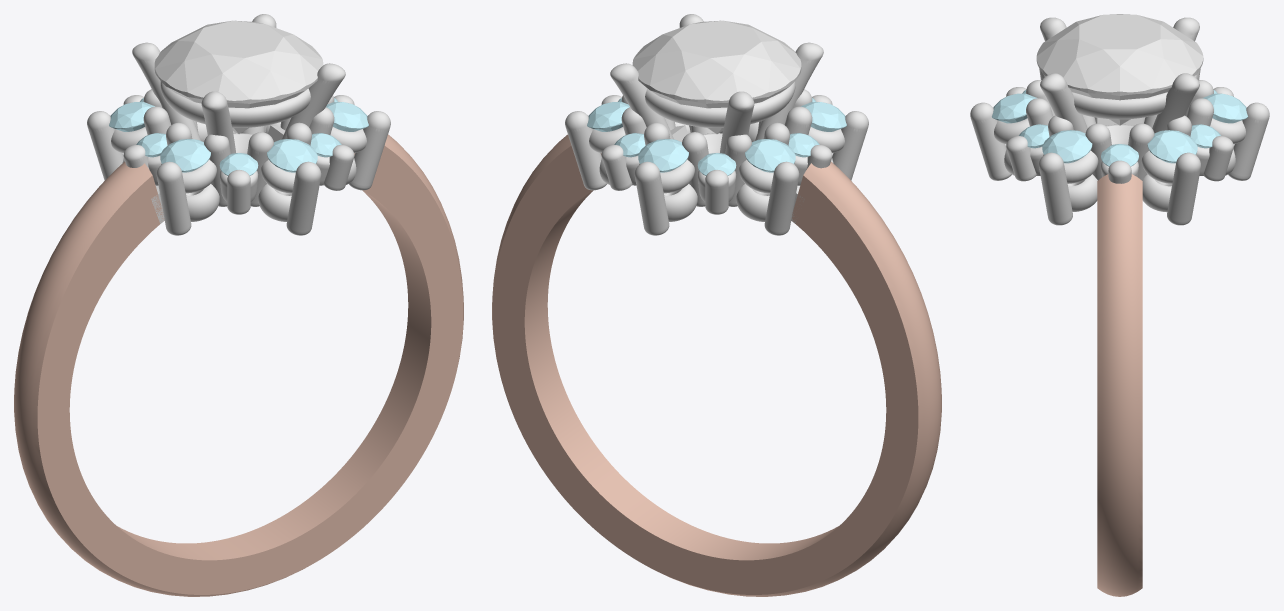
File: NoahV2ptrg_blender.glb
3 views of the same model, side by side, from view 1: azimuth 30°, elevation 25°; view 2: azimuth 150°, elevation 25°; view 3: azimuth 270°, elevation 25° (orthographic).
Visible parts, largest first — view 1: Noah RG for 3d model, V2 Noah PT for 3d model, V2 Noah dia for 3d model, Noah aqua for 3d model - for model only.006, Noah aqua for 3d model - for model only.011, Noah aqua for 3d model - for model only.007, Noah aqua for 3d model - for model only.010, Noah aqua for 3d model - for model only.005; view 2: Noah RG for 3d model, V2 Noah PT for 3d model, V2 Noah dia for 3d model, Noah aqua for 3d model - for model only.007, Noah aqua for 3d model - for model only.008, Noah aqua for 3d model - for model only.006, Noah aqua for 3d model - for model only.009, Noah aqua for 3d model - for model only.001; view 3: V2 Noah PT for 3d model, Noah RG for 3d model, V2 Noah dia for 3d model, Noah aqua for 3d model - for model only.009, Noah aqua for 3d model - for model only.010, Noah aqua for 3d model - for model only.008, Noah aqua for 3d model - for model only.011, Noah aqua for 3d model - for model only.003, Noah aqua for 3d model - for model only.002, Noah aqua for 3d model - for model only.004.
Part boxes in pixels (box(x1,y1,x2,y2)): Noah RG for 3d model: box(14, 134, 463, 596); V2 Noah PT for 3d model: box(87, 14, 390, 235); V2 Noah dia for 3d model: box(154, 20, 323, 133); Noah aqua for 3d model - for model only.006: box(160, 139, 210, 172); Noah aqua for 3d model - for model only.011: box(267, 139, 317, 172); Noah aqua for 3d model - for model only.007: box(109, 102, 154, 131); Noah aqua for 3d model - for model only.010: box(326, 102, 368, 131); Noah aqua for 3d model - for model only.005: box(219, 153, 258, 175); Noah RG for 3d model: box(492, 134, 941, 596); V2 Noah PT for 3d model: box(565, 14, 868, 235); V2 Noah dia for 3d model: box(632, 20, 801, 133); Noah aqua for 3d model - for model only.007: box(745, 139, 795, 172); Noah aqua for 3d model - for model only.008: box(638, 139, 688, 172); Noah aqua for 3d model - for model only.006: box(801, 102, 846, 131); Noah aqua for 3d model - for model only.009: box(587, 102, 629, 131); Noah aqua for 3d model - for model only.001: box(697, 153, 736, 175); V2 Noah PT for 3d model: box(970, 17, 1269, 225); Noah RG for 3d model: box(1097, 174, 1142, 596); V2 Noah dia for 3d model: box(1036, 14, 1203, 125); Noah aqua for 3d model - for model only.009: box(1147, 130, 1197, 163); Noah aqua for 3d model - for model only.010: box(1042, 130, 1092, 163); Noah aqua for 3d model - for model only.008: box(1202, 93, 1247, 123); Noah aqua for 3d model - for model only.011: box(992, 93, 1037, 123); Noah aqua for 3d model - for model only.003: box(1101, 144, 1138, 166); Noah aqua for 3d model - for model only.002: box(1190, 124, 1220, 148); Noah aqua for 3d model - for model only.004: box(1019, 124, 1049, 148).
Bounding box in the file's own units: 19.89 × 23.67 × 11.87.
